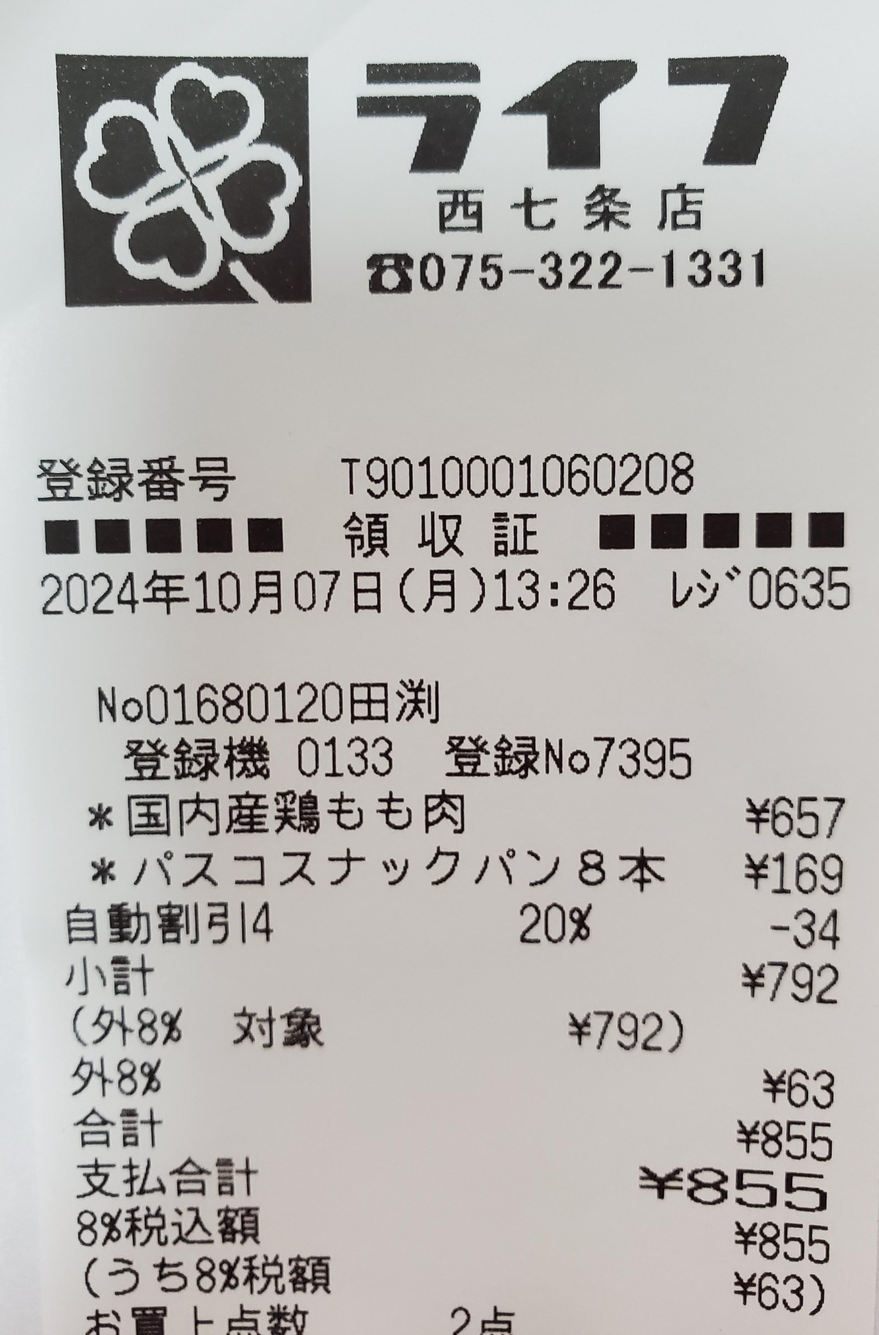TEL: (418, 241, 777, 305)
date: (28, 569, 391, 626)
total: (685, 1163, 833, 1216)
